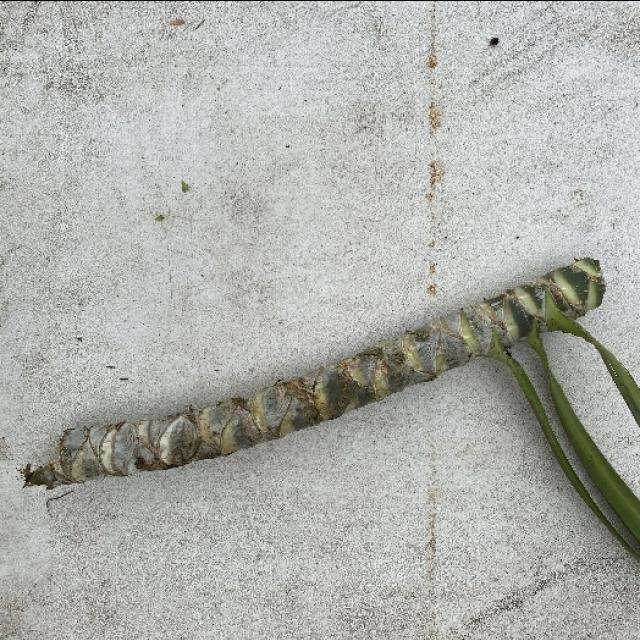organik: (16, 244, 634, 608)
